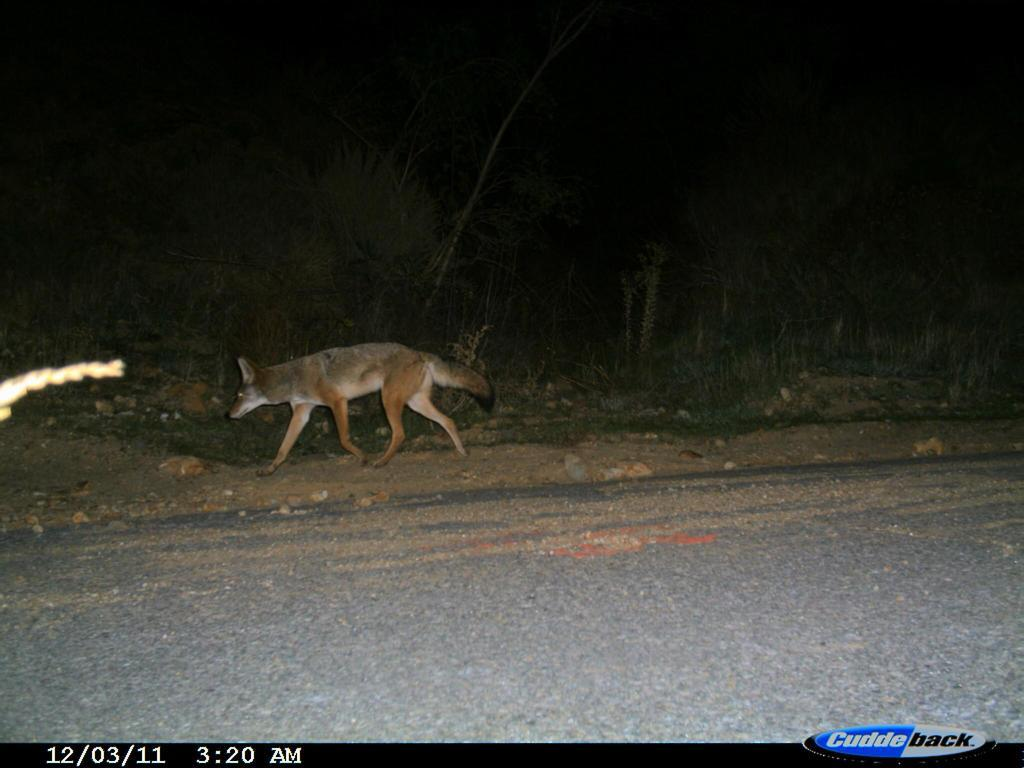coyote: (214, 331, 505, 482)
